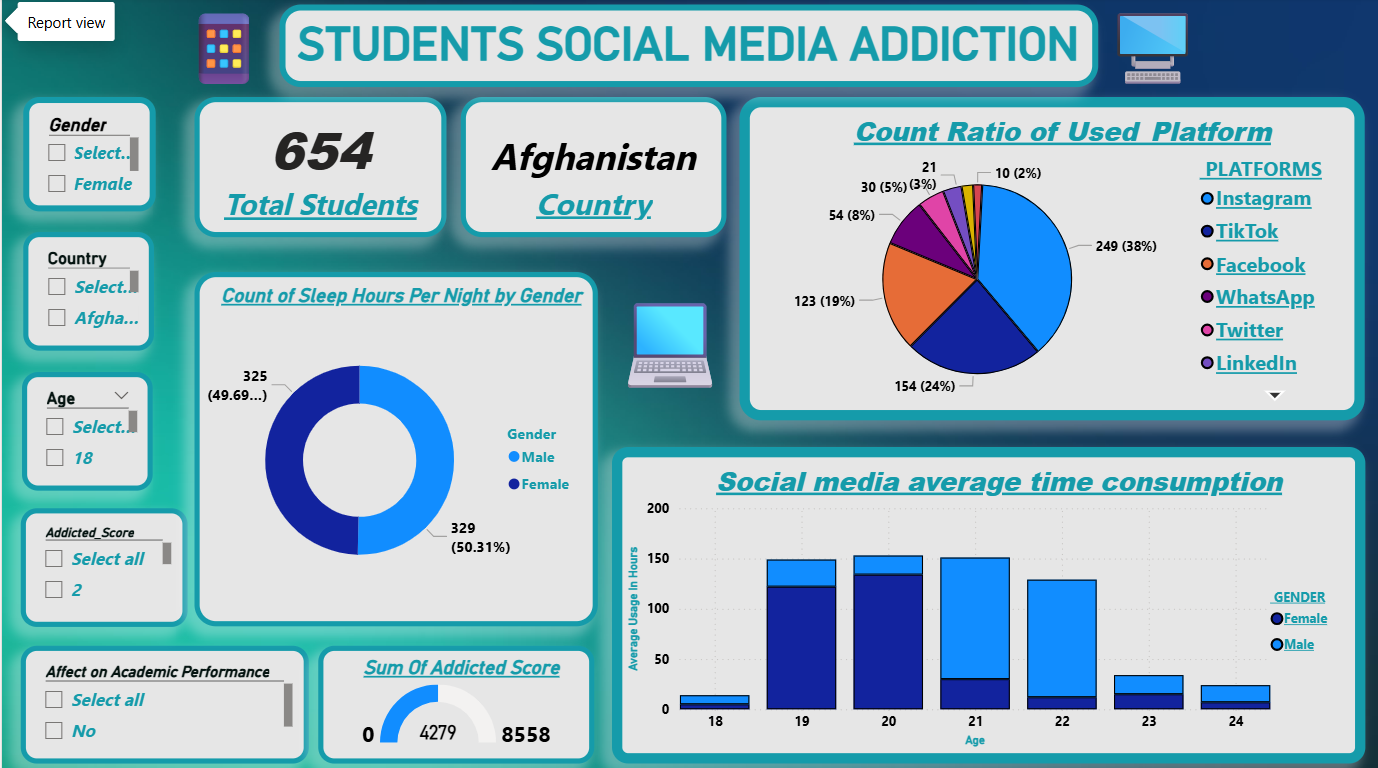

The page's visual inventory and layout, read from the dashboard file:
{"tool":"powerbi","page":{"name":"Page 1","canvas":[1280,720],"ordinal":0},"visuals":[{"type":"pieChart","title":"Count Ratio of Used_Platform","fields":{"Y":["CountNonNull(Students Social Media Addiction.Most_Used_Platform)"],"Category":["Students Social Media Addiction.Most_Used_Platform"]},"box":[686.5,92.9,581.5,300.4],"z":0},{"type":"slicer","fields":{"Values":["Students Social Media Addiction.Gender"]},"box":[19.3,92.9,123.1,106.2],"z":1000},{"type":"slicer","fields":{"Values":["Students Social Media Addiction.Country"]},"box":[20.3,218.8,121.7,110.1],"z":2000},{"type":"slicer","fields":{"Values":["Students Social Media Addiction.Age"]},"box":[18.8,349.3,121.7,110.1],"z":3000},{"type":"slicer","fields":{"Values":["Students Social Media Addiction.Affects_Academic_Performance"]},"box":[16.9,603.2,267.8,109.8],"z":4000},{"type":"slicer","fields":{"Values":["Students Social Media Addiction.Addicted_Score"]},"box":[17.4,475.4,155.1,110.1],"z":5000},{"type":"columnChart","title":"Social media average time consumption","fields":{"Category":["Students Social Media Addiction.Age"],"Y":["CountNonNull(Students Social Media Addiction.Avg_Daily_Usage_Hours.1)"],"Series":["Students Social Media Addiction.Gender"]},"box":[567,418.6,700.9,294.4],"z":6000},{"type":"gauge","title":"Sum Of Addicted Score","fields":{"Y":["Sum(Students Social Media Addiction.Addicted_Score)"]},"box":[294.4,603.2,257,109.8],"z":7000},{"type":"card","fields":{"Values":["Students Social Media Addiction.total students"]},"box":[178.6,92.9,234,130.3],"z":8000},{"type":"card","fields":{"Values":["Min(Students Social Media Addiction.Country)"]},"box":[427.1,92.9,247.3,130.3],"z":9000},{"type":"donutChart","fields":{"Category":["Students Social Media Addiction.Gender"],"Y":["CountNonNull(Students Social Media Addiction.Sleep_Hours_Per_Night.1)"]},"box":[178.6,255.8,375.2,329.4],"z":10000},{"type":"textbox","title":"Country","box":[492.2,172.5,118.2,35],"z":11000},{"type":"textbox","title":"💻","box":[562.2,266.6,124.3,123.1],"z":12000},{"type":"textbox","title":"📱","box":[155.6,0,102.5,109.8],"z":13000},{"type":"textbox","title":"🖥️","box":[1031.5,0,107.4,98.9],"z":14000},{"type":"textbox","title":"STUDENT SOCIAL MEDIA ANALYSIS","box":[236.5,21.7,795,54.3],"z":15000}]}

Visuals, with their boxes in screenshot pixels (x1, y1, x2, y2):
"Count Ratio of Used_Platform" pieChart: x1=733 y1=98 x2=1345 y2=414
slicer - Students Social Media Addiction.Gender: x1=31 y1=98 x2=161 y2=209
slicer - Students Social Media Addiction.Country: x1=32 y1=230 x2=160 y2=346
slicer - Students Social Media Addiction.Age: x1=31 y1=367 x2=159 y2=483
slicer - Students Social Media Addiction.Affects_Academic_Performance: x1=29 y1=634 x2=310 y2=750
slicer - Students Social Media Addiction.Addicted_Score: x1=29 y1=500 x2=192 y2=616
"Social media average time consumption" columnChart: x1=607 y1=440 x2=1344 y2=750
"Sum Of Addicted Score" gauge: x1=320 y1=634 x2=591 y2=750
card - Students Social Media Addiction.total students: x1=199 y1=98 x2=445 y2=235
card - Min(Students Social Media Addiction.Country): x1=460 y1=98 x2=720 y2=235
donutChart - Students Social Media Addiction.Gender x CountNonNull(Students Social Media Addiction.Sleep_Hours_Per_Night.1): x1=199 y1=269 x2=593 y2=616
"Country" textbox: x1=528 y1=181 x2=653 y2=218
"💻" textbox: x1=602 y1=280 x2=733 y2=410
"📱" textbox: x1=174 y1=0 x2=282 y2=115
"🖥️" textbox: x1=1096 y1=0 x2=1209 y2=104
"STUDENT SOCIAL MEDIA ANALYSIS" textbox: x1=260 y1=23 x2=1096 y2=80
